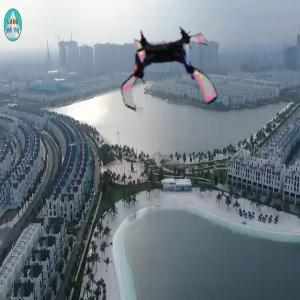drone: (113, 20, 219, 126)
